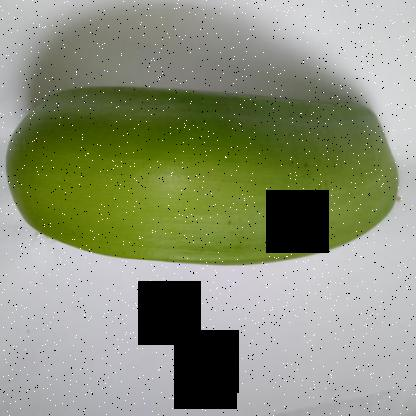freshunripe: (1, 74, 407, 284)
